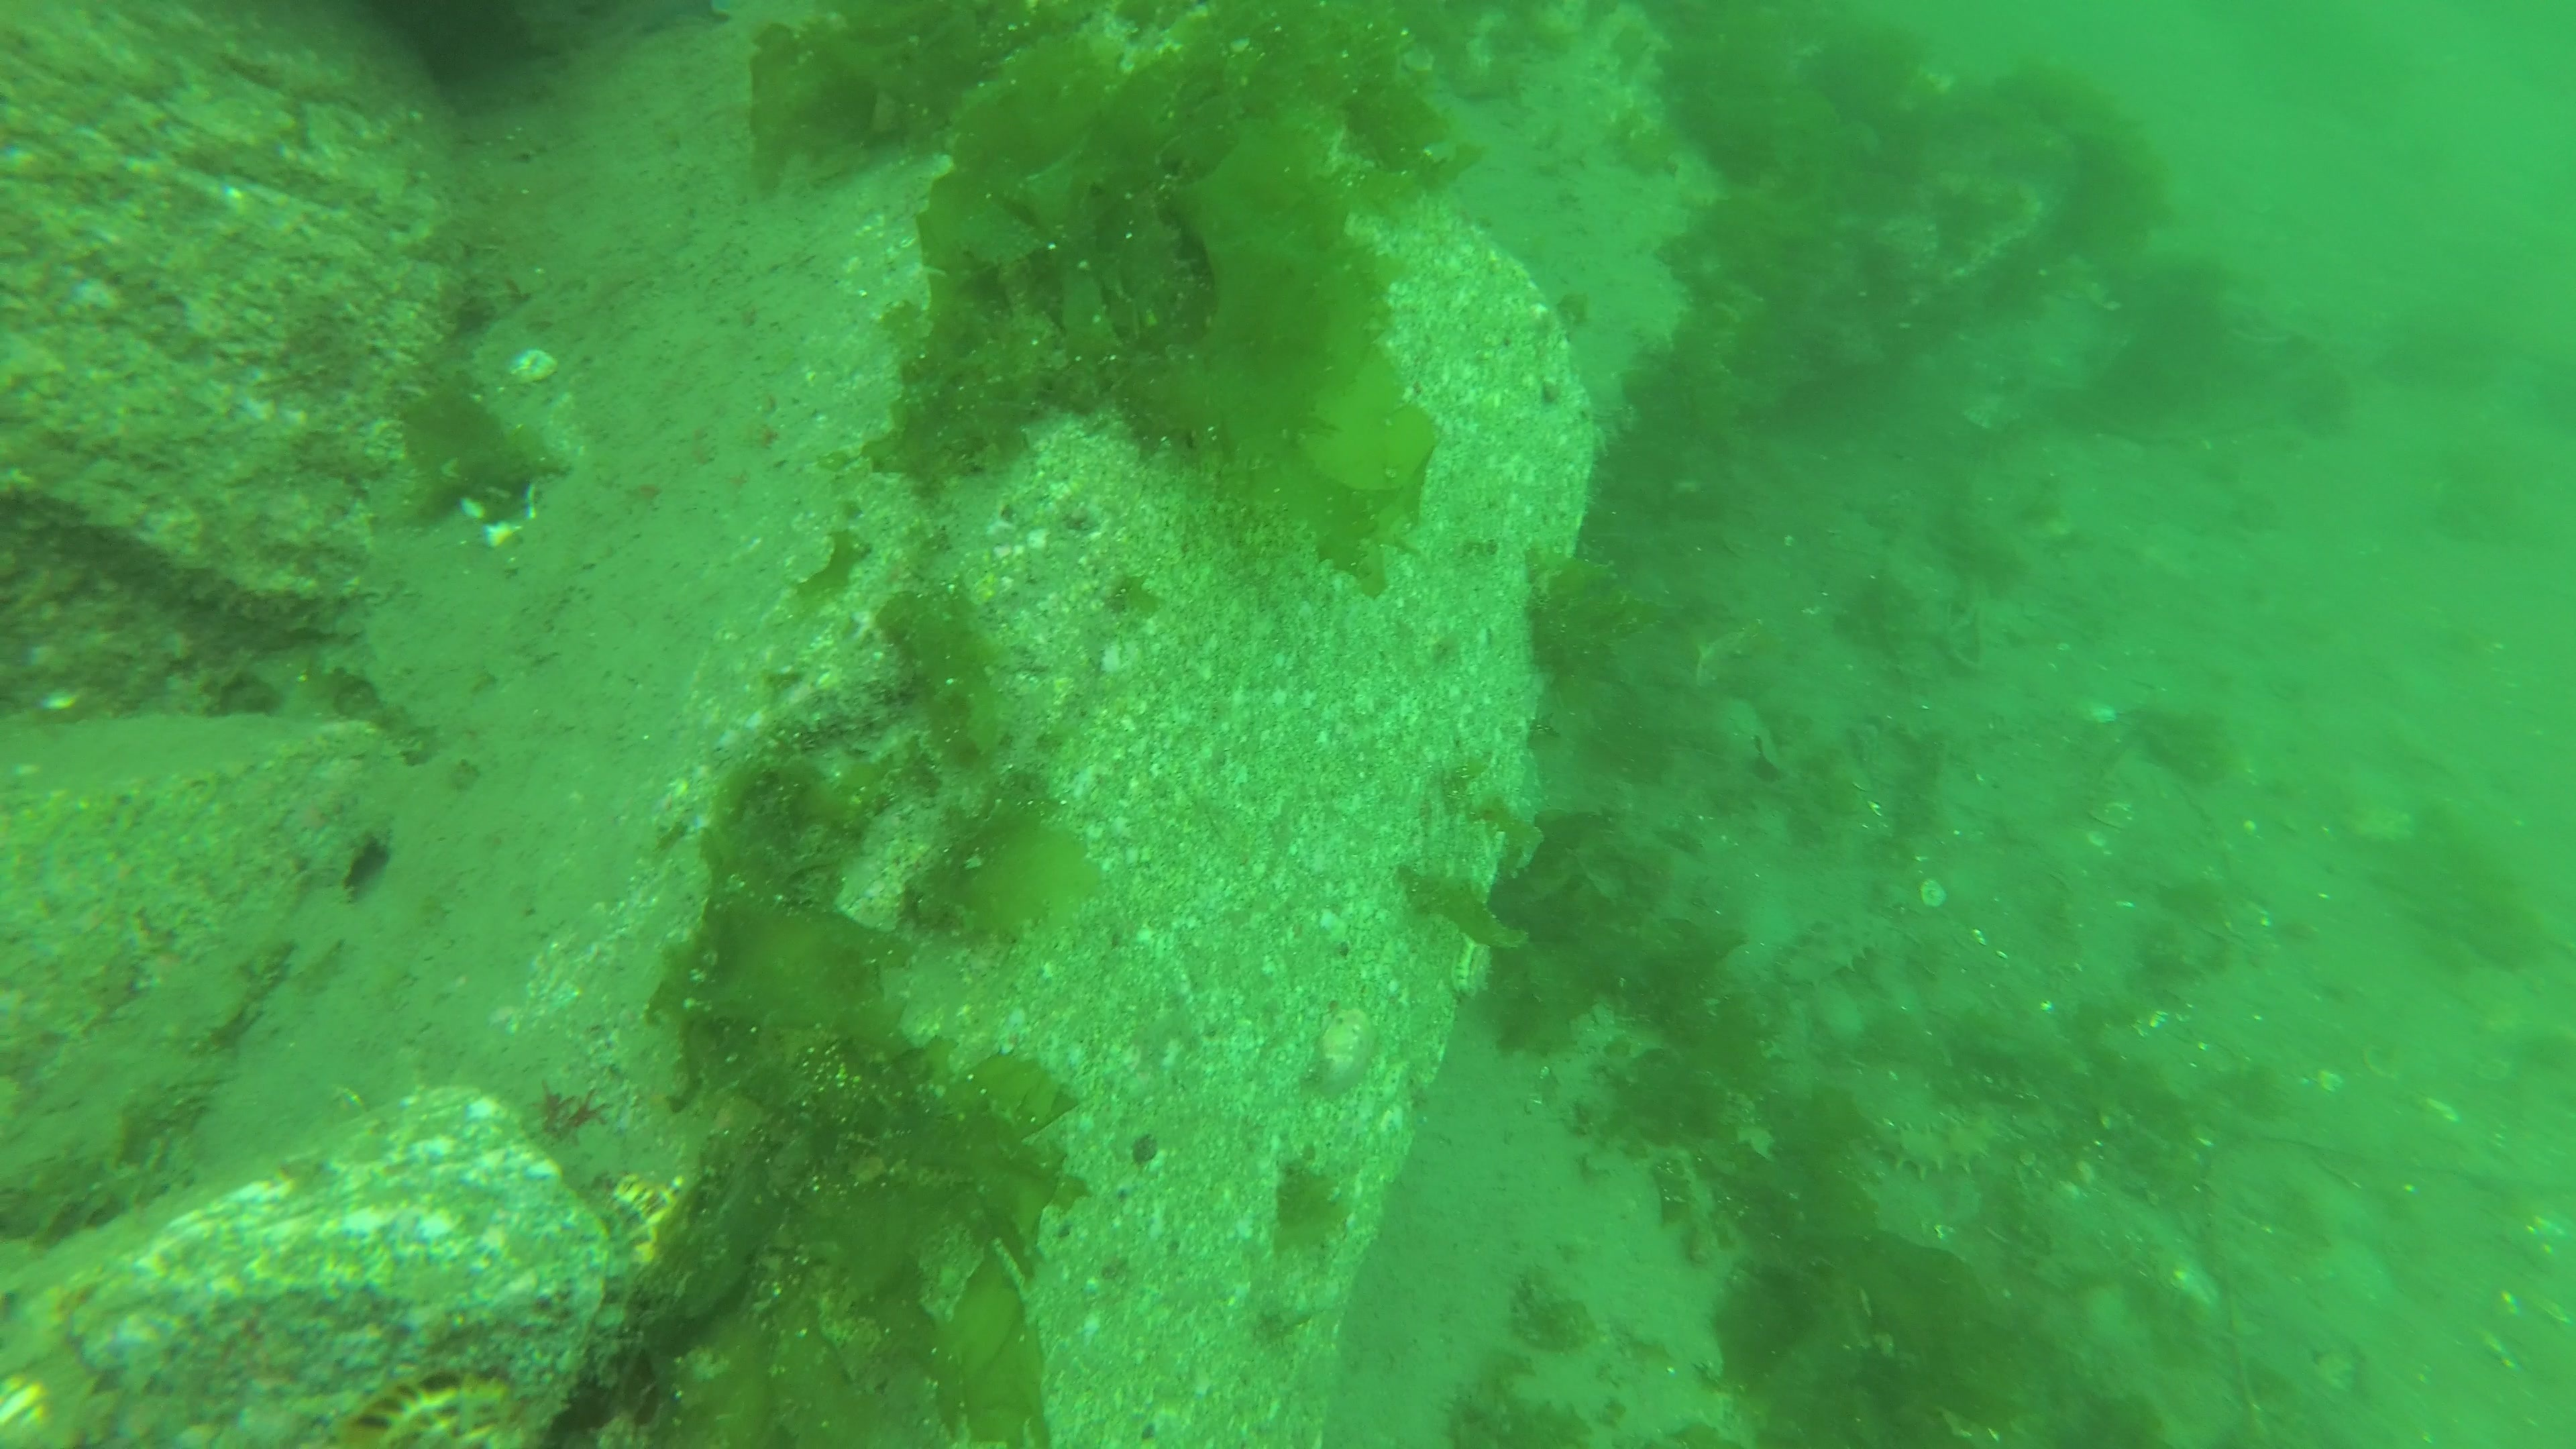holothurian: (1767, 899, 1897, 996), (1859, 1109, 2010, 1191)
